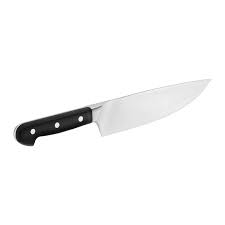knife: (13, 77, 213, 147)
